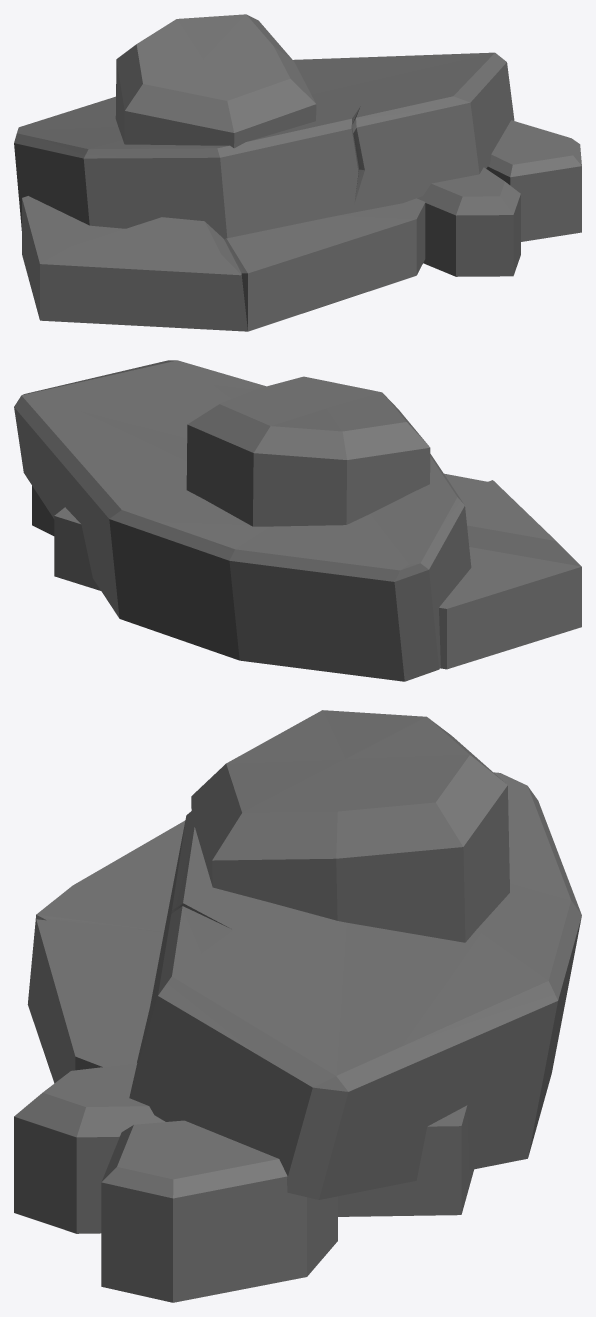
File: pack02_rocks_01.fbx
The picture shows the model from 3 angles, top to bottom: view 1: azimuth 30°, elevation 25°; view 2: azimuth 150°, elevation 25°; view 3: azimuth 270°, elevation 25°; orthographic projection. The views are drawn at different scales.
Parts seen in each view (by area): view 1: Rock Type1 01 mesh; view 2: Rock Type1 01 mesh; view 3: Rock Type1 01 mesh.
Part boxes in pixels (x1,y1,x2,y2): Rock Type1 01 mesh: [14, 14, 581, 331]; Rock Type1 01 mesh: [14, 360, 581, 681]; Rock Type1 01 mesh: [14, 710, 581, 1302].
Size of the model in its own units: 287 by 106 by 172.
1 material, 1 textured.
